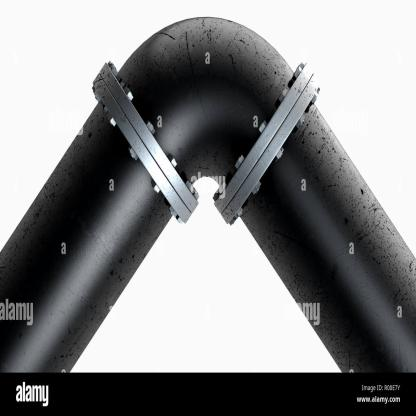PVC: (0, 15, 415, 373)
